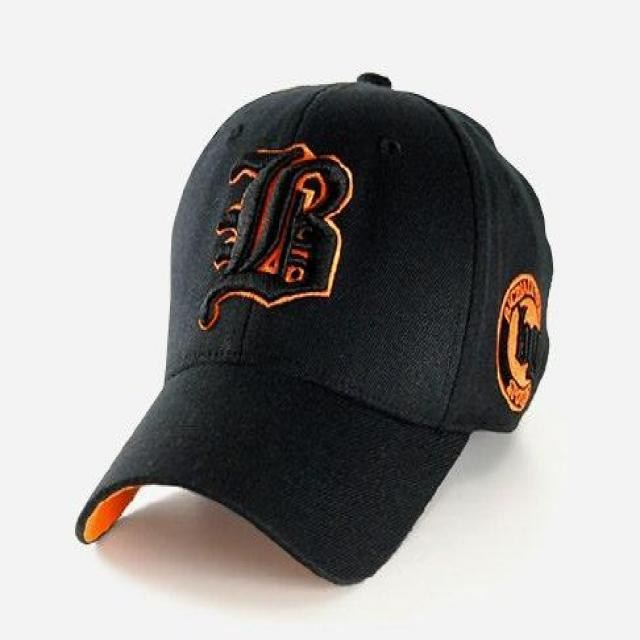hidden camera: (278, 257, 307, 290)
